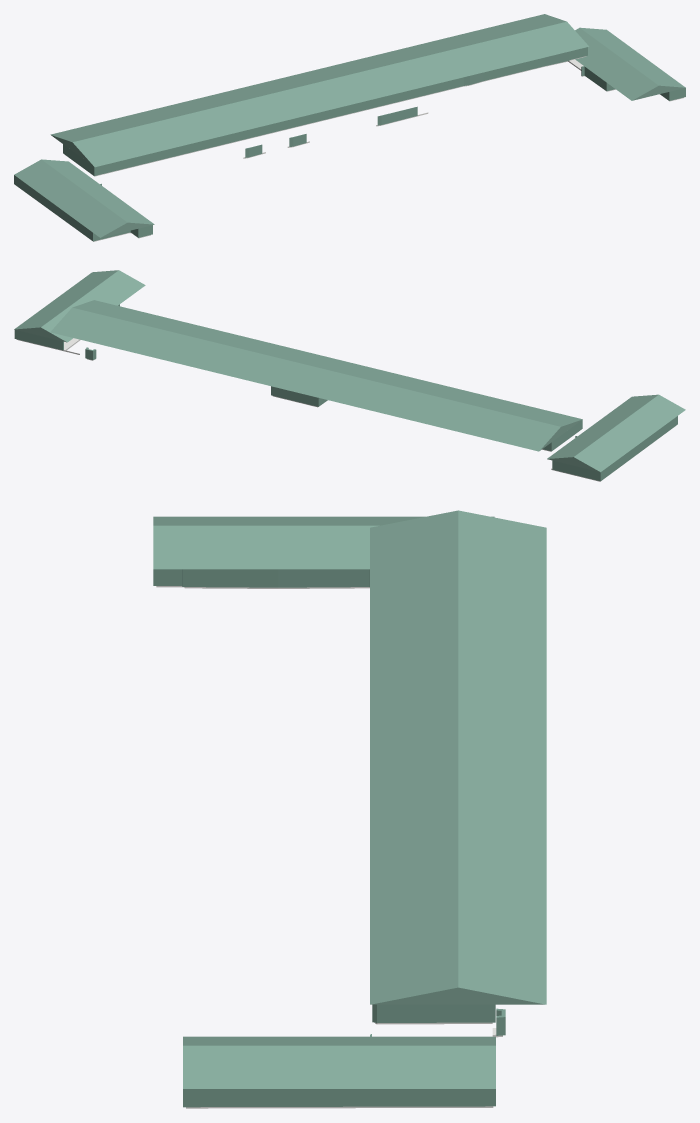
File: main_roof.glb
The picture shows the model from 3 angles, top to bottom: view 1: azimuth 30°, elevation 25°; view 2: azimuth 150°, elevation 25°; view 3: azimuth 270°, elevation 25°; orthographic projection. The views are drawn at different scales.
Parts seen in each view (by area): view 1: main_roof__roofMetal, main_roof__green, main_roof__slab; view 2: main_roof__roofMetal, main_roof__green, main_roof__slab; view 3: main_roof__roofMetal, main_roof__green, main_roof__slab.
Part boxes in pixels (x1,y1,x2,y2): main_roof__roofMetal: (14, 14, 685, 237); main_roof__green: (14, 47, 685, 241); main_roof__slab: (65, 56, 683, 241); main_roof__roofMetal: (14, 270, 685, 472); main_roof__green: (14, 304, 677, 481); main_roof__slab: (16, 338, 600, 481); main_roof__roofMetal: (153, 510, 546, 1088); main_roof__green: (153, 569, 505, 1107); main_roof__slab: (156, 586, 502, 1108).
Bounding box in the file's own units: 121 × 7.35 × 35.1.
